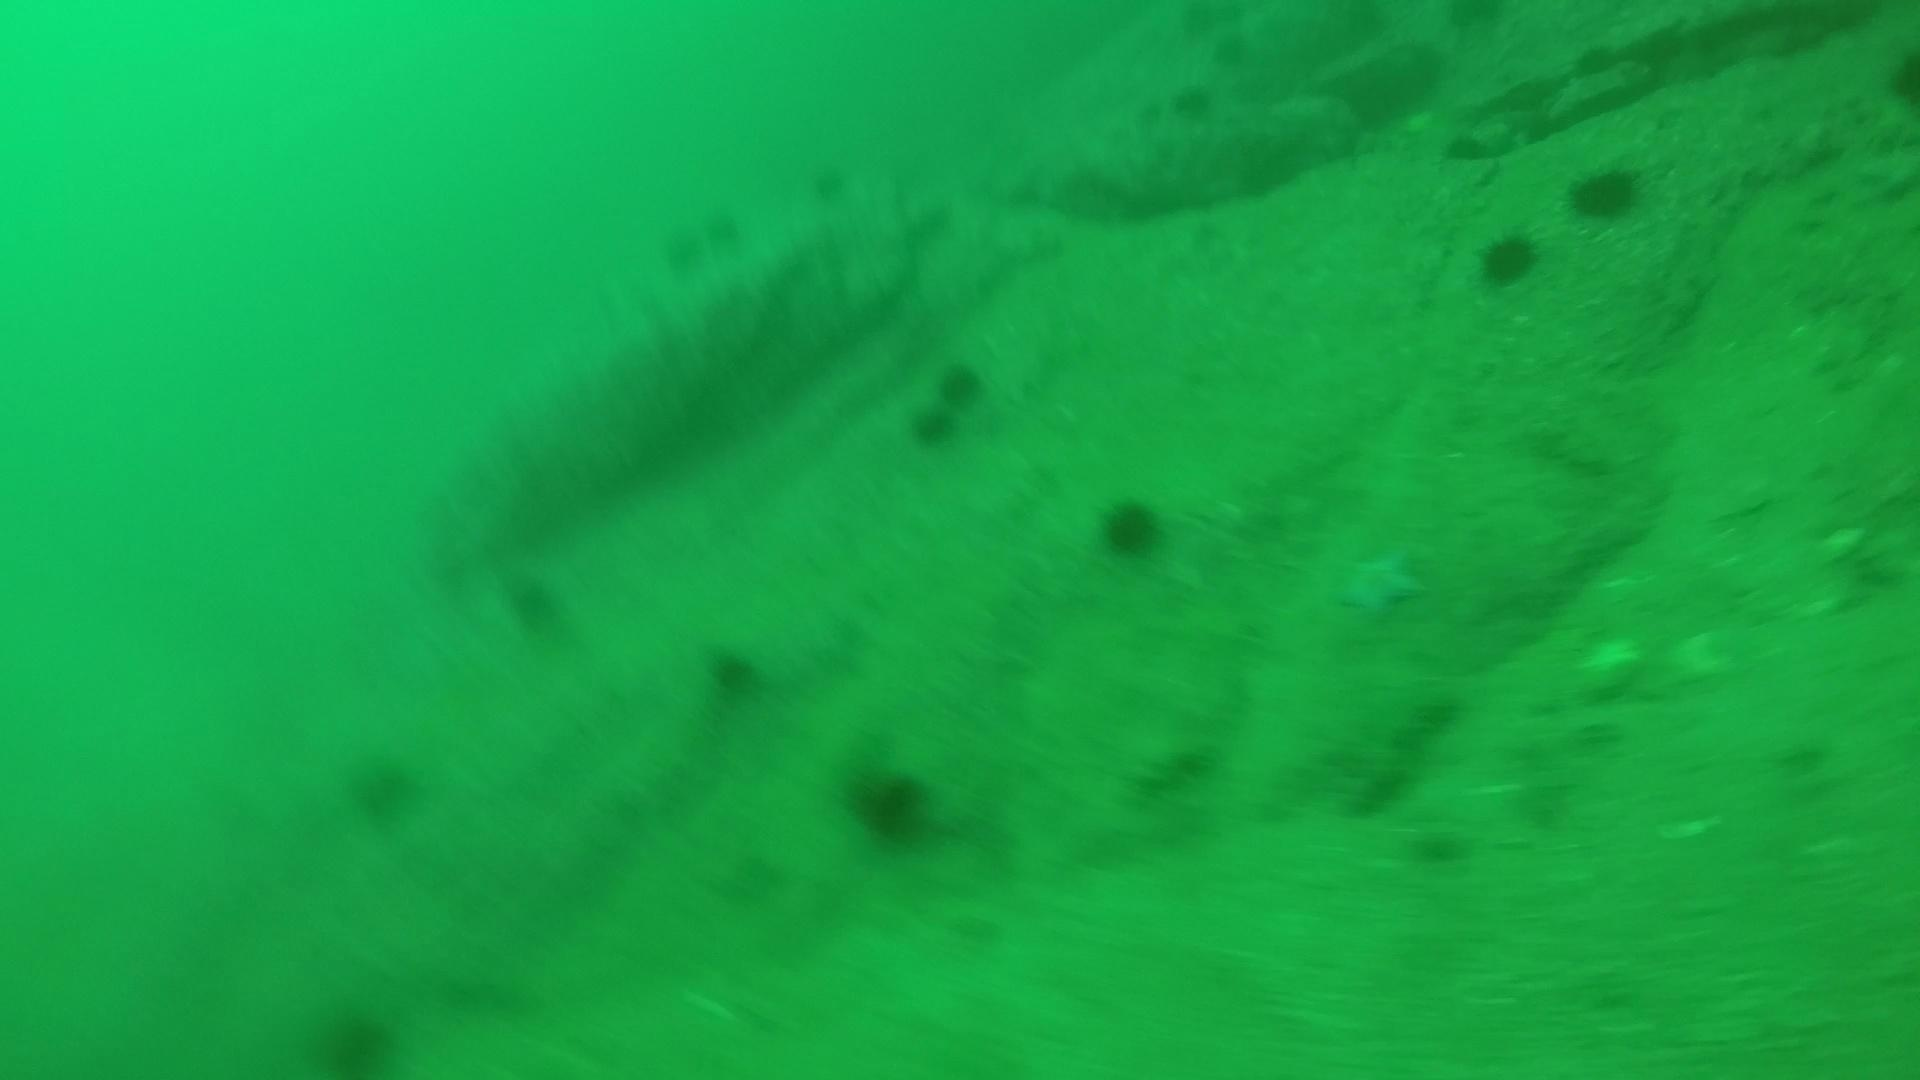echinus: (839, 754, 939, 849), (309, 1000, 405, 1075), (342, 745, 427, 825), (1563, 156, 1648, 227), (1092, 492, 1171, 563), (500, 568, 574, 640), (1472, 225, 1545, 291), (924, 352, 997, 415), (699, 640, 767, 704), (1422, 109, 1493, 171), (794, 154, 866, 215), (649, 225, 721, 286), (1178, 42, 1250, 103), (1556, 42, 1629, 103), (680, 202, 752, 262), (1147, 83, 1218, 144), (1515, 102, 1586, 162), (1154, 1, 1226, 61), (1436, 1, 1509, 61), (901, 365, 928, 451)
starfish: (1331, 541, 1429, 622)
